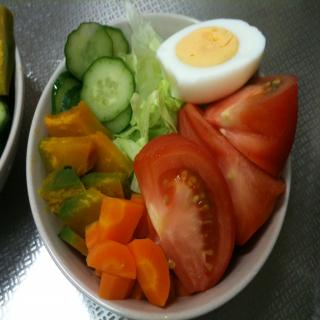Cucumber: (53, 23, 137, 132)
Egg: (158, 16, 267, 104)
Salad: (19, 2, 299, 320)
Tomato: (132, 132, 237, 293), (178, 102, 284, 246), (203, 76, 299, 180)
